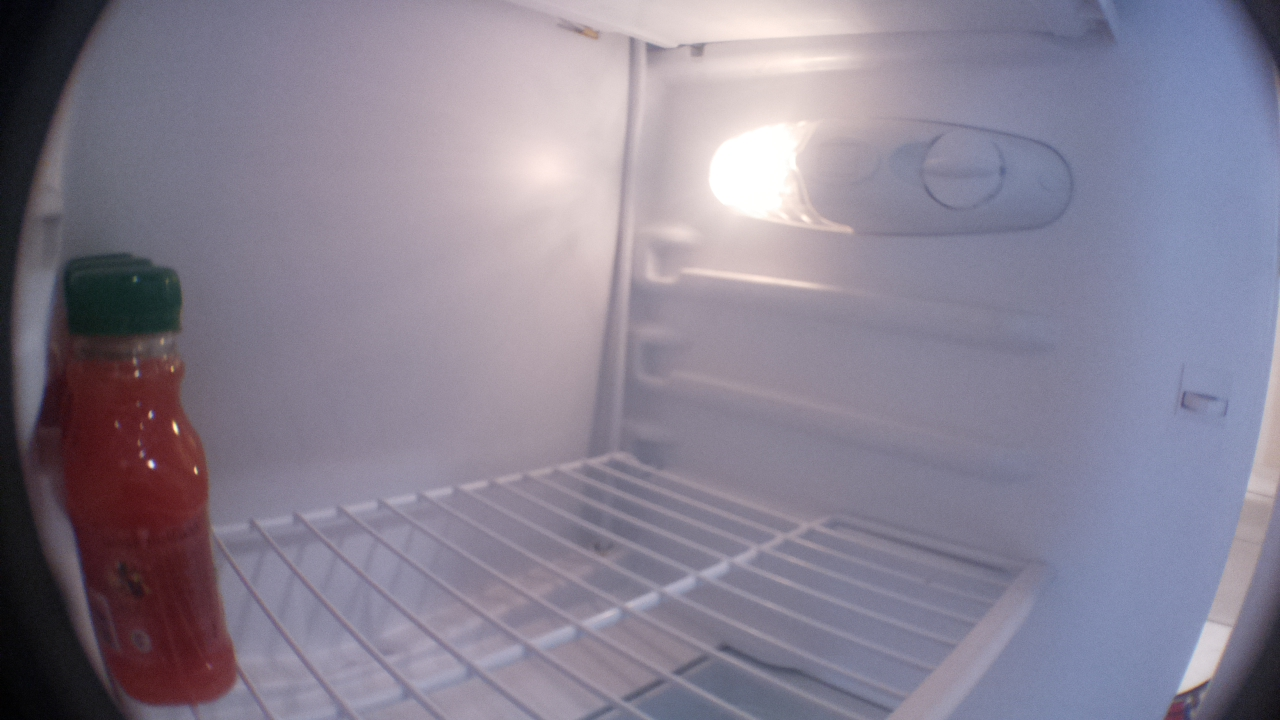juice: (45, 268, 242, 712), (62, 251, 161, 273)
